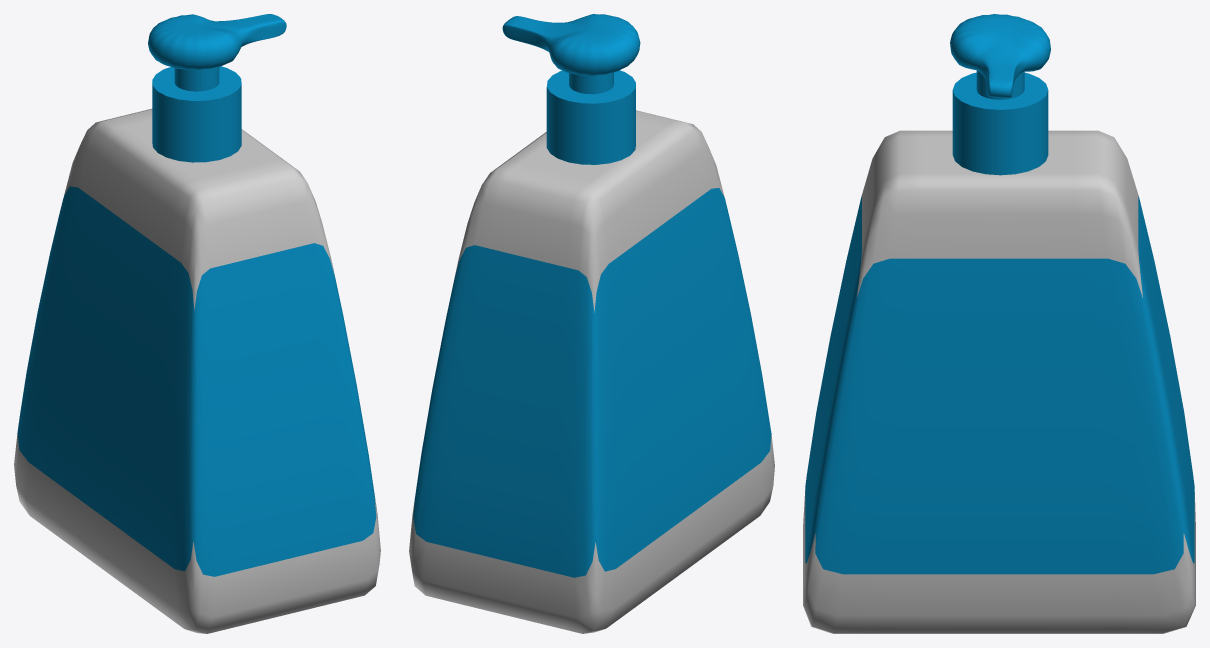
File: alcool.dae
The picture shows the model from 3 angles, left to right: view 1: azimuth 30°, elevation 25°; view 2: azimuth 150°, elevation 25°; view 3: azimuth 270°, elevation 25°; orthographic projection. The views are drawn at different scales.
Parts seen in each view (by area): view 1: tubo, tampa2, tampa3, tampa1; view 2: tubo, tampa2, tampa3, tampa1; view 3: tubo, tampa2, tampa3, tampa1.
Boxes of the visible parts, <box> form: tubo: <box>14,109,380,633</box>; tampa2: <box>152,66,241,162</box>; tampa3: <box>148,14,286,70</box>; tampa1: <box>174,67,219,91</box>; tubo: <box>409,110,774,633</box>; tampa2: <box>546,70,635,164</box>; tampa3: <box>502,14,640,75</box>; tampa1: <box>569,72,613,94</box>; tubo: <box>803,130,1195,633</box>; tampa2: <box>952,72,1048,175</box>; tampa3: <box>950,14,1050,97</box>; tampa1: <box>976,70,1024,99</box>.
Size of the model in its own units: 0.218 by 0.5744 by 0.3626.
